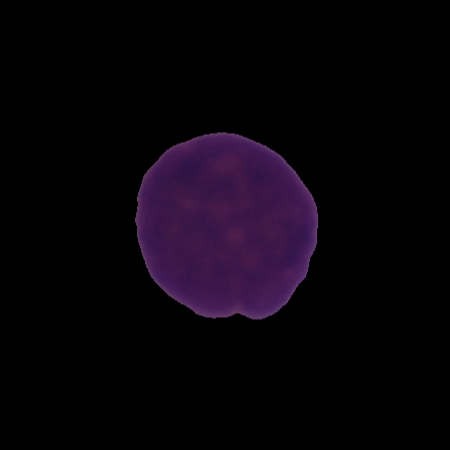ALL: (131, 127, 322, 324)
